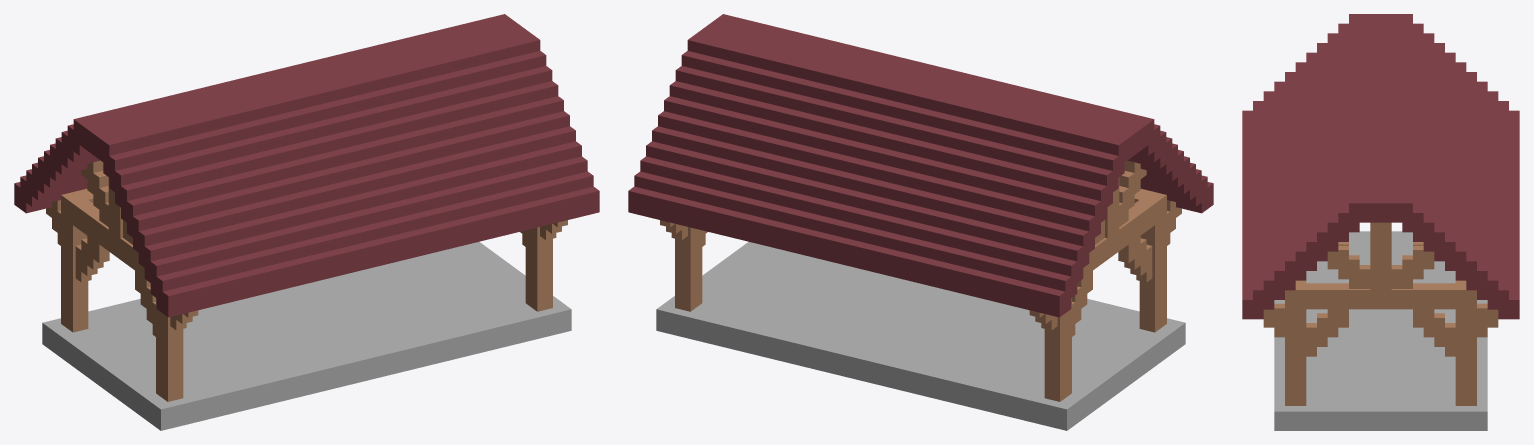
File: Gazebo.fbx
The picture shows the model from 3 angles, left to right: view 1: azimuth 30°, elevation 25°; view 2: azimuth 150°, elevation 25°; view 3: azimuth 270°, elevation 25°; orthographic projection. The views are drawn at different scales.
Parts seen in each view (by area): view 1: Cube.004, Cube.001, Cube, Cube.005, Cube.002, Cube.011, Cube.006, Cube.007, Cube.003; view 2: Cube.004, Cube.001, Cube, Cube.005, Cube.002, Cube.011, Cube.006, Cube.007, Cube.003; view 3: Cube.004, Cube.001, Cube, Cube.005, Cube.002, Cube.011, Cube.006, Cube.003, Cube.007.
Part boxes in pixels (x1,y1,x2,y2): Cube.004: (14, 14, 599, 317); Cube.001: (42, 242, 571, 430); Cube: (61, 191, 552, 401); Cube.005: (85, 22, 527, 157); Cube.002: (73, 200, 144, 277); Cube.011: (75, 230, 525, 336); Cube.006: (81, 160, 132, 244); Cube.007: (46, 200, 567, 330); Cube.003: (108, 177, 122, 238); Cube.004: (628, 14, 1213, 317); Cube.001: (656, 242, 1185, 430); Cube: (675, 191, 1166, 401); Cube.005: (700, 22, 1142, 157); Cube.002: (1083, 200, 1154, 277); Cube.011: (702, 230, 1152, 336); Cube.006: (1095, 160, 1146, 244); Cube.007: (660, 200, 1181, 330); Cube.003: (1105, 177, 1119, 238); Cube.004: (1242, 14, 1519, 319); Cube.001: (1274, 231, 1487, 430); Cube: (1285, 283, 1476, 405); Cube.005: (1370, 14, 1391, 222); Cube.002: (1306, 283, 1455, 309); Cube.011: (1306, 309, 1455, 356); Cube.006: (1327, 245, 1434, 288); Cube.003: (1370, 222, 1391, 289); Cube.007: (1263, 303, 1498, 337).
Bounding box in the file's own units: 1280 × 732 × 792.
